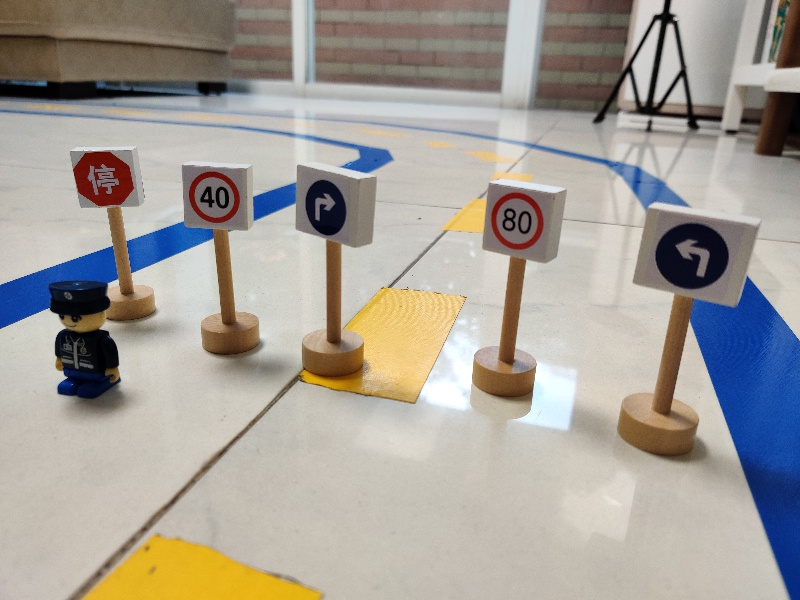limit_40: (181, 161, 251, 231)
limit_80: (481, 180, 565, 260)
person: (44, 276, 123, 400)
stop: (70, 144, 145, 212)
turn_left: (634, 196, 767, 311)
turn_right: (297, 162, 375, 250)
